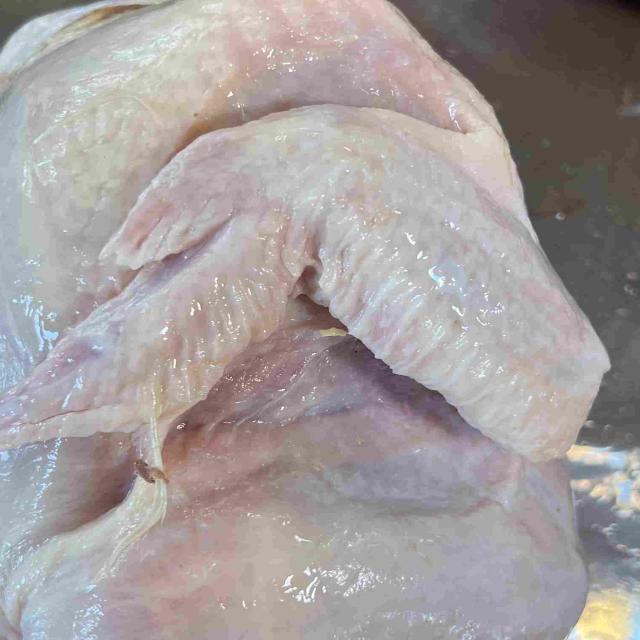leg: (19, 504, 442, 640)
wing: (0, 107, 603, 453)
